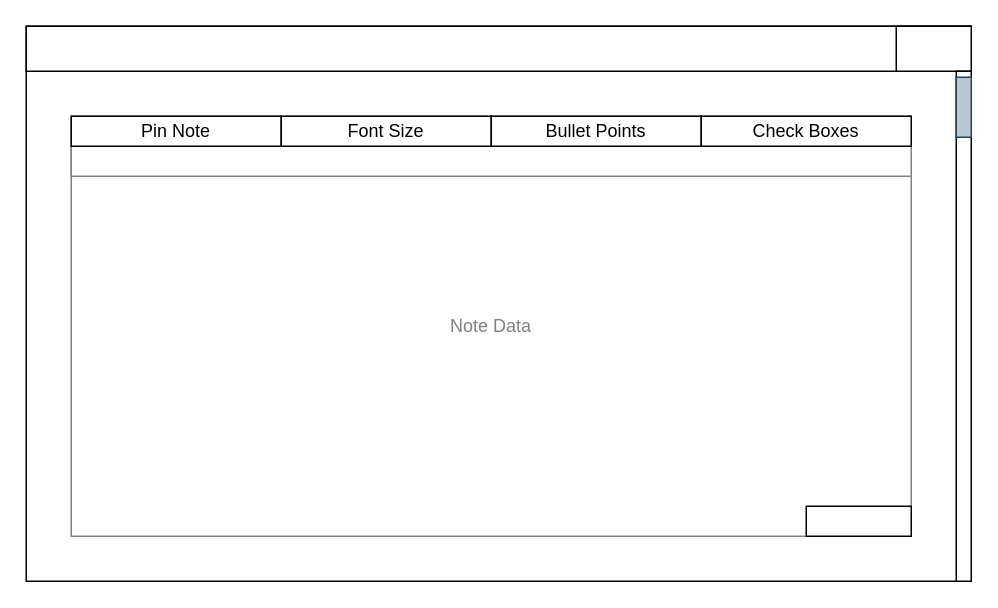
Some shapes in this 998 by 608 pixel diagram are drawn without their labels. Here are the shapes that lost their labels. From the top down, the centre of each, then its label:
At [933,48]: "Settings".
At [490,160]: "Note Name".
At [858,520]: "Save Note".
